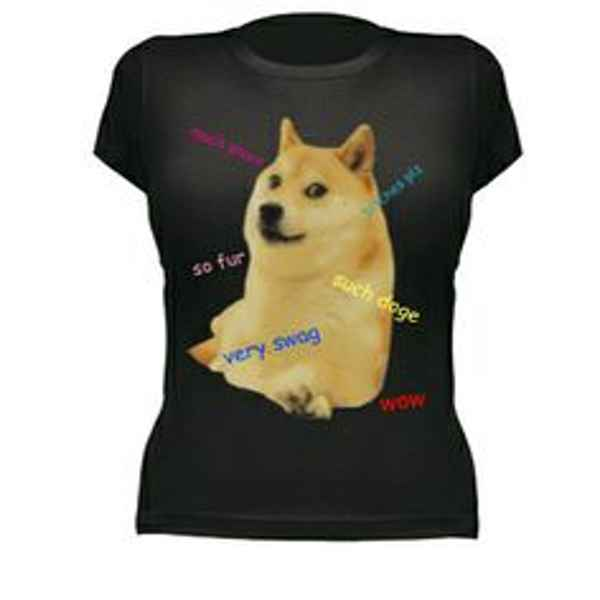doge: (226, 126, 387, 275)
